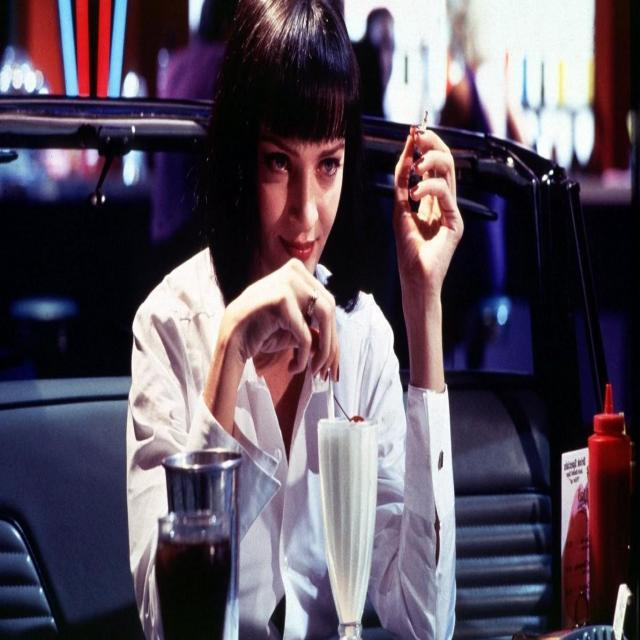cigarette: (407, 100, 446, 176)
